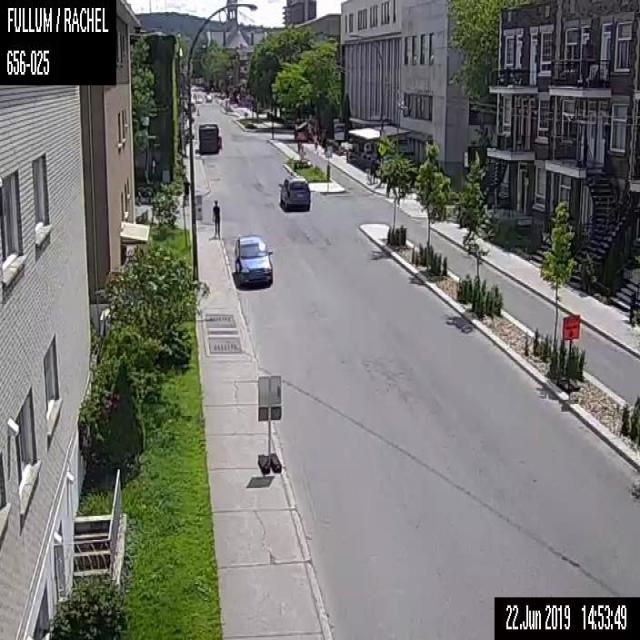construction: (293, 126, 311, 166), (561, 314, 579, 339)
pedestrian: (211, 198, 220, 238), (181, 176, 189, 205)
vehicle: (233, 234, 272, 286), (277, 174, 309, 210), (194, 93, 202, 103), (205, 94, 212, 102)
